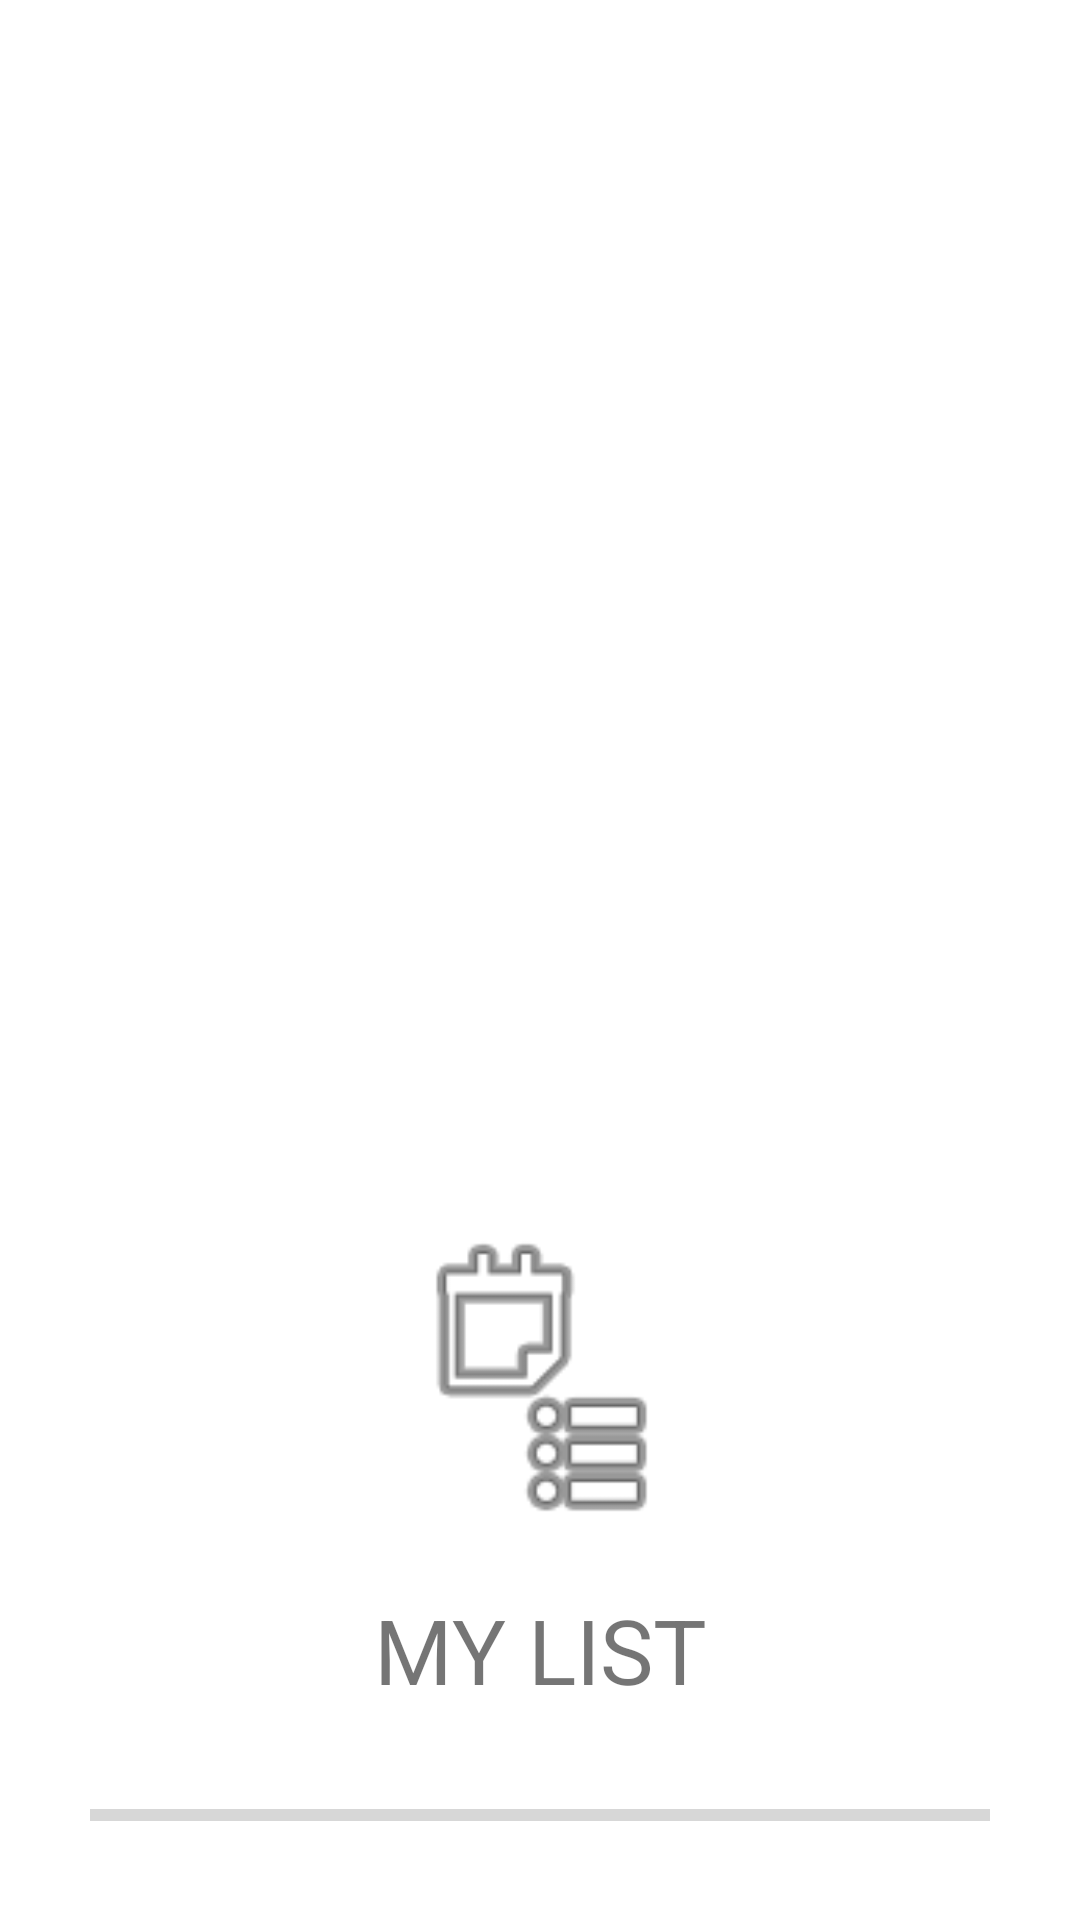

Icons on this 1080px x 1920px Android screen, each with its box as (left=x1, top=y1, right=x2, bottom=y2):
agenda: (left=436, top=1244, right=647, bottom=1511)
